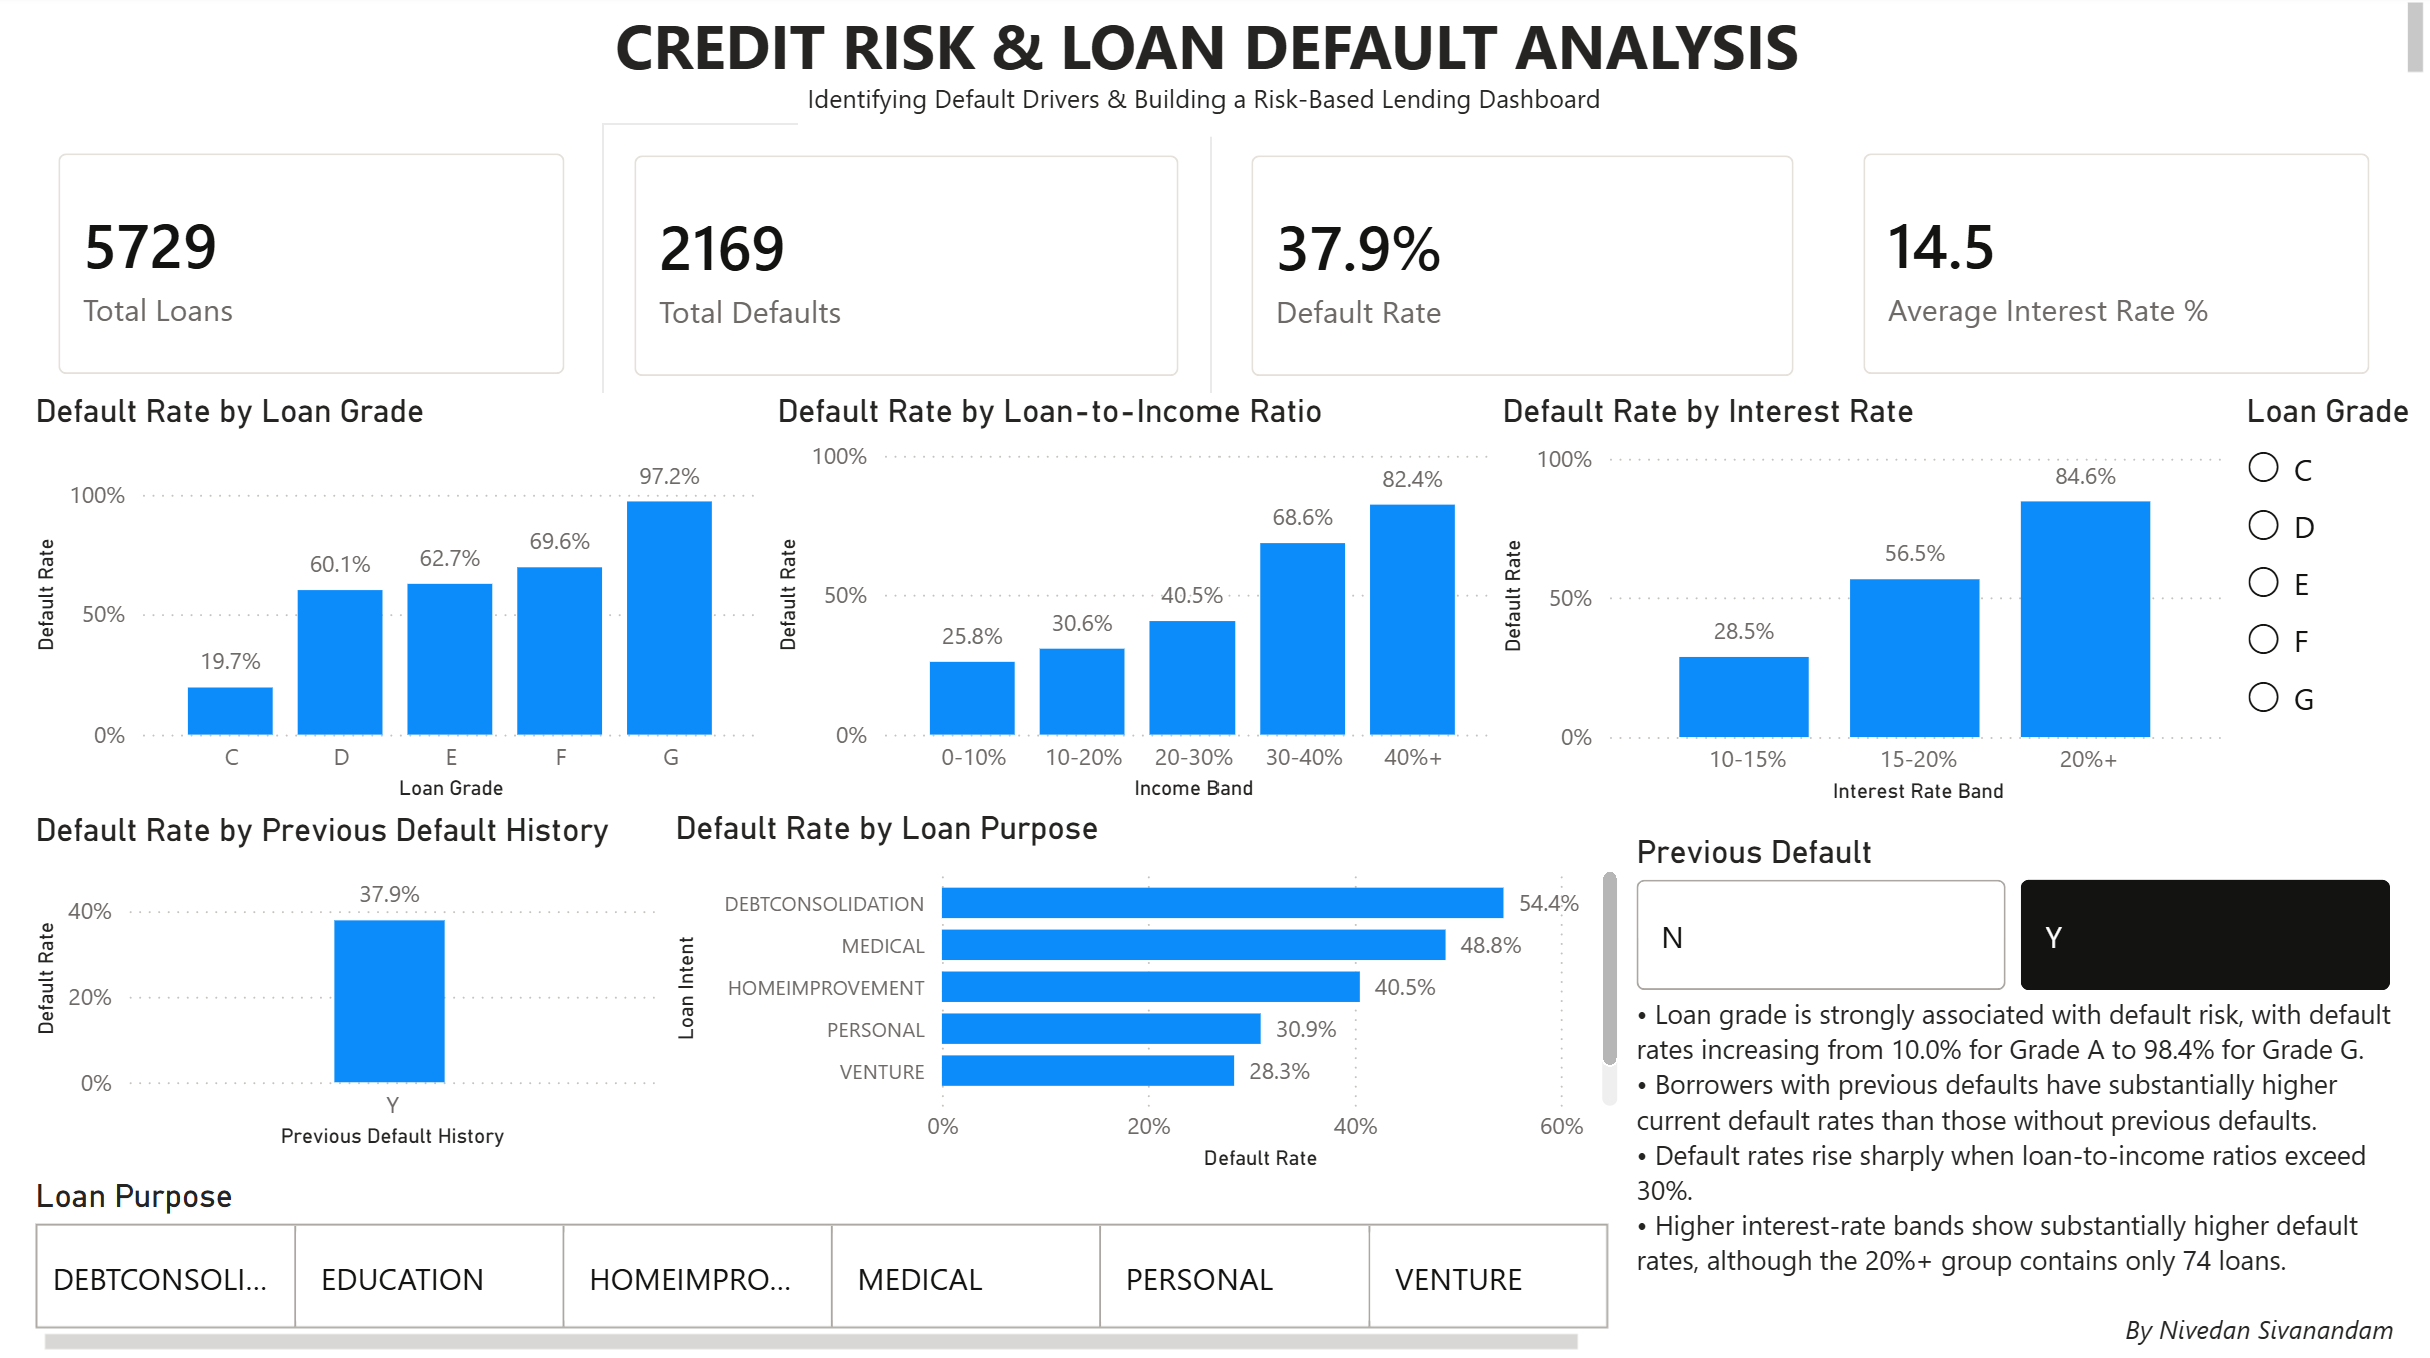

What the dashboard file says about the page in this screenshot:
{"tool":"powerbi","page":{"name":"Credit Risk Dashboard","canvas":[1280,720],"ordinal":0},"visuals":[{"type":"textbox","box":[0,0,1280,49.5],"z":0},{"type":"cardVisual","fields":{"Data":["credit_risk.Total Loans"]},"box":[15.6,66.8,300.5,150.3],"z":1000},{"type":"cardVisual","fields":{"Data":["credit_risk.Total Defaults"]},"box":[318.7,67.9,320.6,150.3],"z":2000},{"type":"cardVisual","fields":{"Data":["credit_risk.Default Rate"]},"box":[641.9,67.9,319.4,150.3],"z":3000},{"type":"cardVisual","fields":{"Data":["credit_risk.Average Interest Rate"]},"box":[963.9,66.8,300.5,150.3],"z":4000},{"type":"clusteredColumnChart","title":"Default Rate by Loan Grade","fields":{"Category":["credit_risk.loan_grade"],"Y":["credit_risk.Default Rate"]},"box":[15.3,210.4,390.1,218],"z":5000},{"type":"clusteredBarChart","title":"Default Rate by Loan Purpose","fields":{"Category":["credit_risk.loan_intent"],"Y":["credit_risk.Default Rate"]},"box":[351.9,428.4,504.9,219.3],"z":6000},{"type":"clusteredColumnChart","title":"Default Rate by Loan-to-Income Ratio","fields":{"Y":["credit_risk.Default Rate"],"Category":["credit_risk.Income Band"]},"box":[405.4,210.4,390.1,218],"z":7000},{"type":"clusteredColumnChart","title":"Default Rate by Interest Rate","fields":{"Y":["credit_risk.Default Rate"],"Category":["credit_risk.Interest Rate Band"]},"box":[786.6,210.4,390.1,219.3],"z":8000},{"type":"clusteredColumnChart","title":"Default Rate by Previous Default History","fields":{"Category":["credit_risk.cb_person_default_on_file"],"Y":["credit_risk.Default Rate"]},"box":[15.3,429.6,335.3,181],"z":9000},{"type":"textbox","box":[421.8,41.2,435.2,34.5],"z":9004},{"type":"advancedSlicerVisual","title":"Loan Purpose","fields":{"Values":["credit_risk.loan_intent"]},"box":[15.6,622.2,824.8,97.9],"z":9005},{"type":"listSlicer","title":"Loan Grade","fields":{"Values":["credit_risk.loan_grade"]},"box":[1176.7,210.4,103.3,239.7],"z":9007},{"type":"textbox","box":[856.7,521.4,408,182.3],"z":9008},{"type":"advancedSlicerVisual","title":"Previous Default","fields":{"Values":["credit_risk.cb_person_default_on_file"]},"box":[856.7,441.1,408,88],"z":9009},{"type":"textbox","box":[963.8,687.2,300.9,33.1],"z":9010}]}

Visuals, with their boxes in screenshot pixels (x1, y1, x2, y2), scaled from the page's 1280x720 canvas onto the 2430x1358 screenshot:
textbox: crop(0, 0, 2429, 93)
cardVisual - credit_risk.Total Loans: crop(30, 126, 600, 409)
cardVisual - credit_risk.Total Defaults: crop(605, 128, 1214, 412)
cardVisual - credit_risk.Default Rate: crop(1219, 128, 1825, 412)
cardVisual - credit_risk.Average Interest Rate: crop(1830, 126, 2400, 409)
"Default Rate by Loan Grade" clusteredColumnChart: crop(29, 397, 770, 808)
"Default Rate by Loan Purpose" clusteredBarChart: crop(668, 808, 1627, 1222)
"Default Rate by Loan-to-Income Ratio" clusteredColumnChart: crop(770, 397, 1510, 808)
"Default Rate by Interest Rate" clusteredColumnChart: crop(1493, 397, 2234, 810)
"Default Rate by Previous Default History" clusteredColumnChart: crop(29, 810, 666, 1152)
textbox: crop(801, 78, 1627, 143)
"Loan Purpose" advancedSlicerVisual: crop(30, 1174, 1595, 1357)
"Loan Grade" listSlicer: crop(2234, 397, 2429, 849)
textbox: crop(1626, 983, 2401, 1327)
"Previous Default" advancedSlicerVisual: crop(1626, 832, 2401, 998)
textbox: crop(1830, 1296, 2401, 1357)
